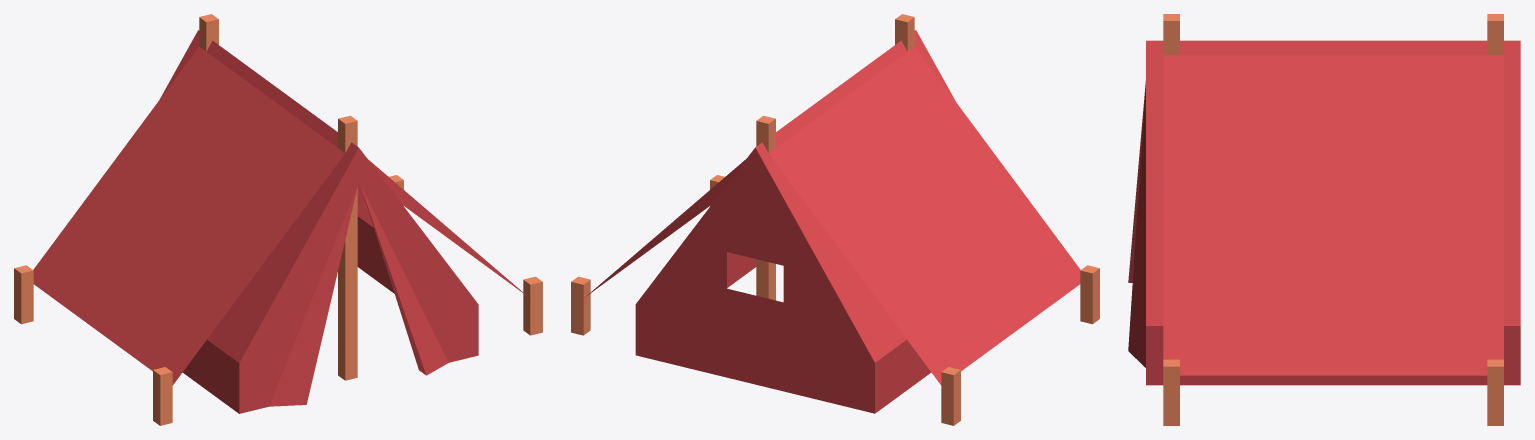
Rendered from tent_detailed.obj.
3 renders of one model, left to right at view 1: azimuth 30°, elevation 25°; view 2: azimuth 150°, elevation 25°; view 3: azimuth 270°, elevation 25°, orthographic. The views are drawn at different scales.
Bounding box in the file's own units: 0.8749 × 0.5611 × 0.6664.
